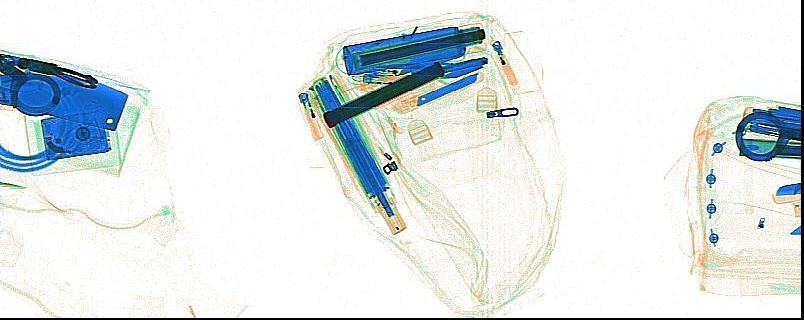handcuffs: (1, 51, 97, 115), (735, 110, 799, 161)
knife: (1, 62, 128, 130), (416, 72, 478, 106), (437, 55, 488, 79)
lighter: (297, 92, 323, 141), (491, 39, 518, 86), (362, 72, 398, 84)
pressure: (342, 22, 487, 75)
